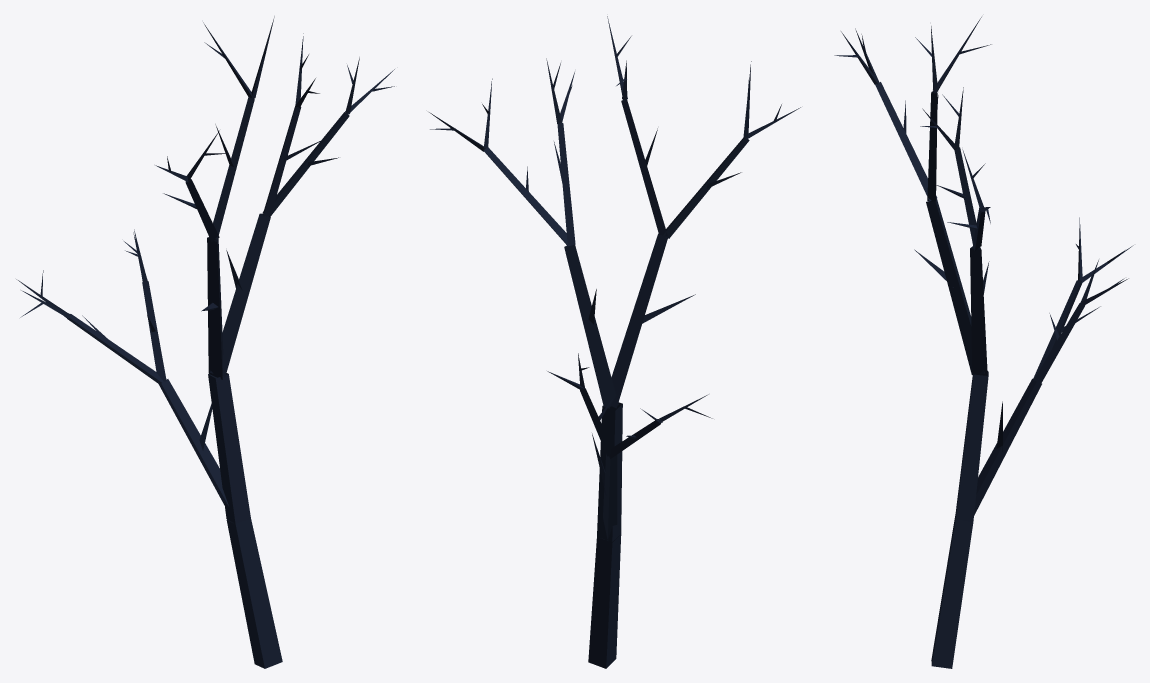
File: tree_bare_e.glb
3 views of the same model, side by side, from view 1: azimuth 30°, elevation 25°; view 2: azimuth 150°, elevation 25°; view 3: azimuth 270°, elevation 25° (orthographic).
Visible parts, largest first — view 1: Tree_Bare_E; view 2: Tree_Bare_E; view 3: Tree_Bare_E.
Boxes of the visible parts, bbox=[...] form: Tree_Bare_E: bbox=[16, 16, 394, 668]; Tree_Bare_E: bbox=[429, 16, 800, 668]; Tree_Bare_E: bbox=[834, 17, 1133, 668].
Bounding box in the file's own units: 1.97 × 3.67 × 1.57.
